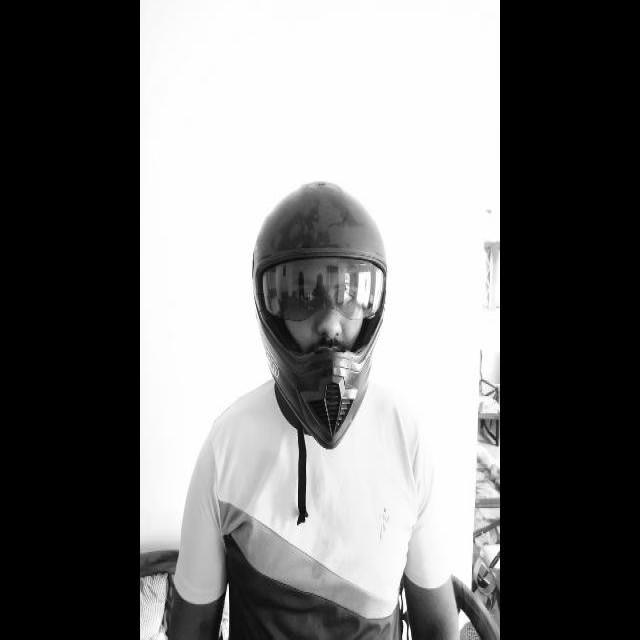5_casco: (251, 181, 387, 448)
